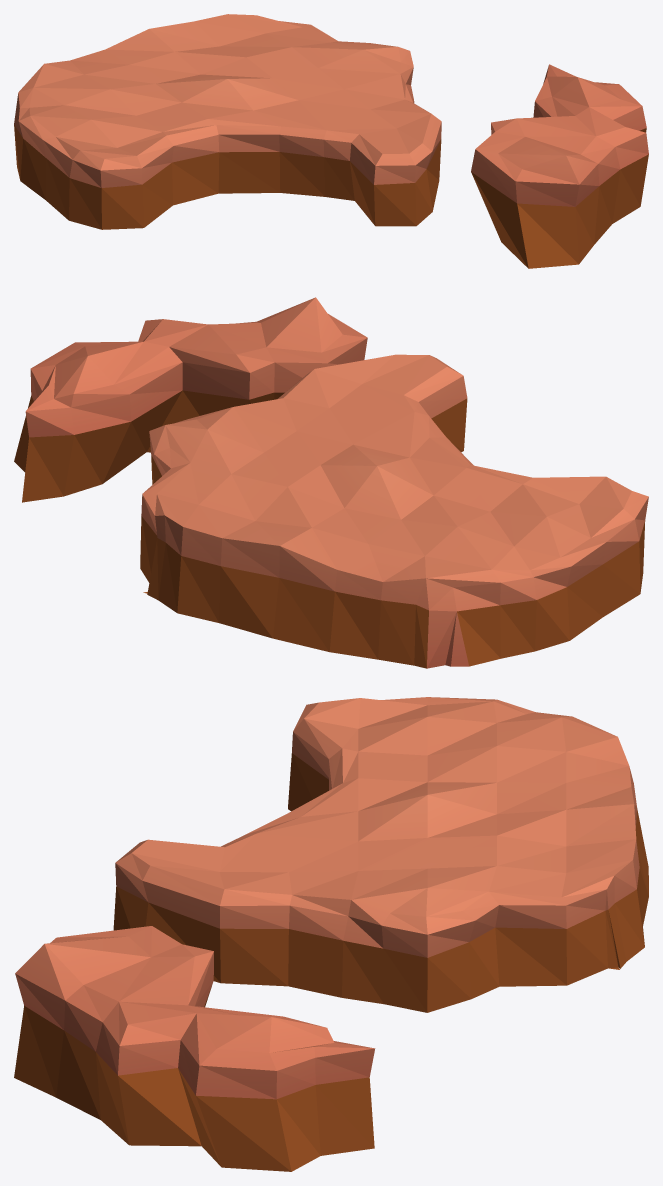
The model's file is oceania.glb.
3 views of the same model, one above another, from view 1: azimuth 30°, elevation 25°; view 2: azimuth 150°, elevation 25°; view 3: azimuth 270°, elevation 25° (orthographic). The views are drawn at different scales.
Visible parts, largest first — view 1: Ground_2_World ap_0.001; view 2: Ground_2_World ap_0.001; view 3: Ground_2_World ap_0.001.
Part boxes in pixels (<box>): Ground_2_World ap_0.001: <box>14,14,648,268</box>; Ground_2_World ap_0.001: <box>14,297,648,668</box>; Ground_2_World ap_0.001: <box>14,697,648,1171</box>.
Bounding box in the file's own units: 3.57 × 0.769 × 2.82.
Materials: 1 (1 with a texture image).
